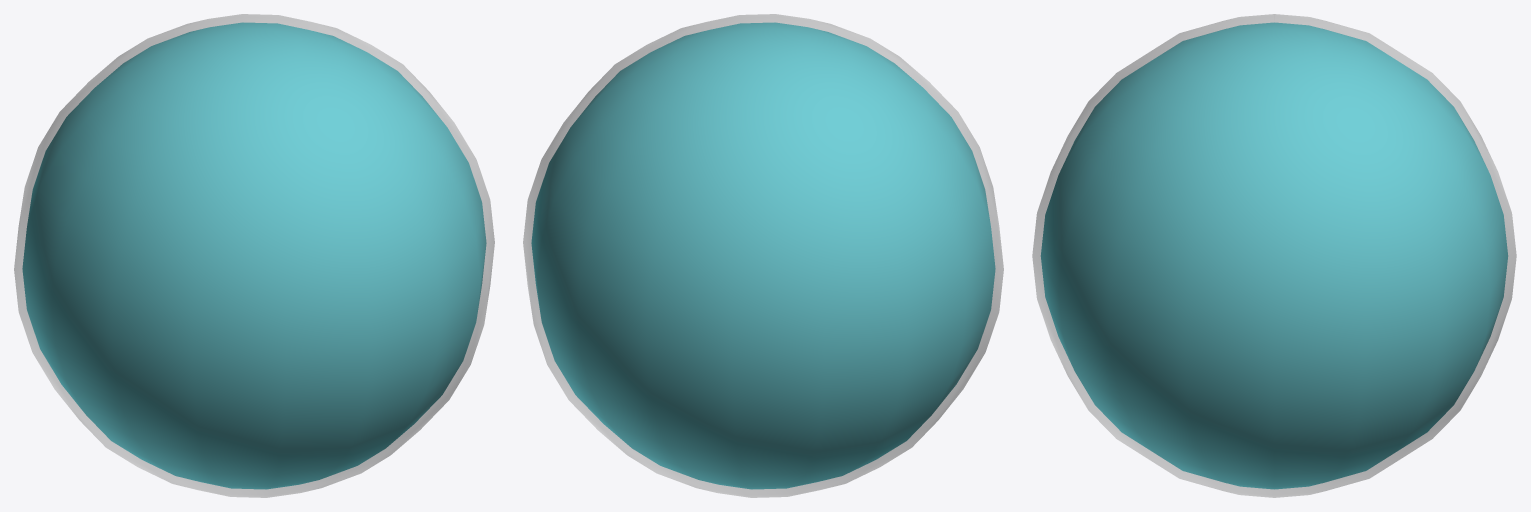
Rendered from mdl_substancePlatforn_sphere.fbx.
3 views of the same model, side by side, from view 1: azimuth 30°, elevation 25°; view 2: azimuth 150°, elevation 25°; view 3: azimuth 270°, elevation 25° (orthographic).
Parts seen in each view (by area): view 1: mesh_substancePlatform_sphere; view 2: mesh_substancePlatform_sphere; view 3: mesh_substancePlatform_sphere.
Part boxes in pixels (x1,y1,x2,y2): mesh_substancePlatform_sphere: (14, 14, 494, 497); mesh_substancePlatform_sphere: (523, 14, 1003, 497); mesh_substancePlatform_sphere: (1032, 14, 1516, 497).
Bounding box in the file's own units: 200 × 200 × 200.
